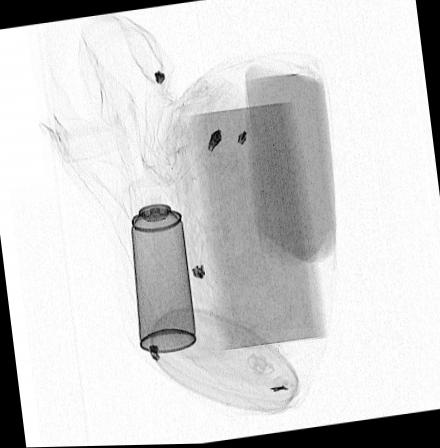Sprayer: (126, 175, 197, 355)
